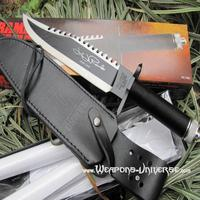knife: (19, 8, 199, 137)
